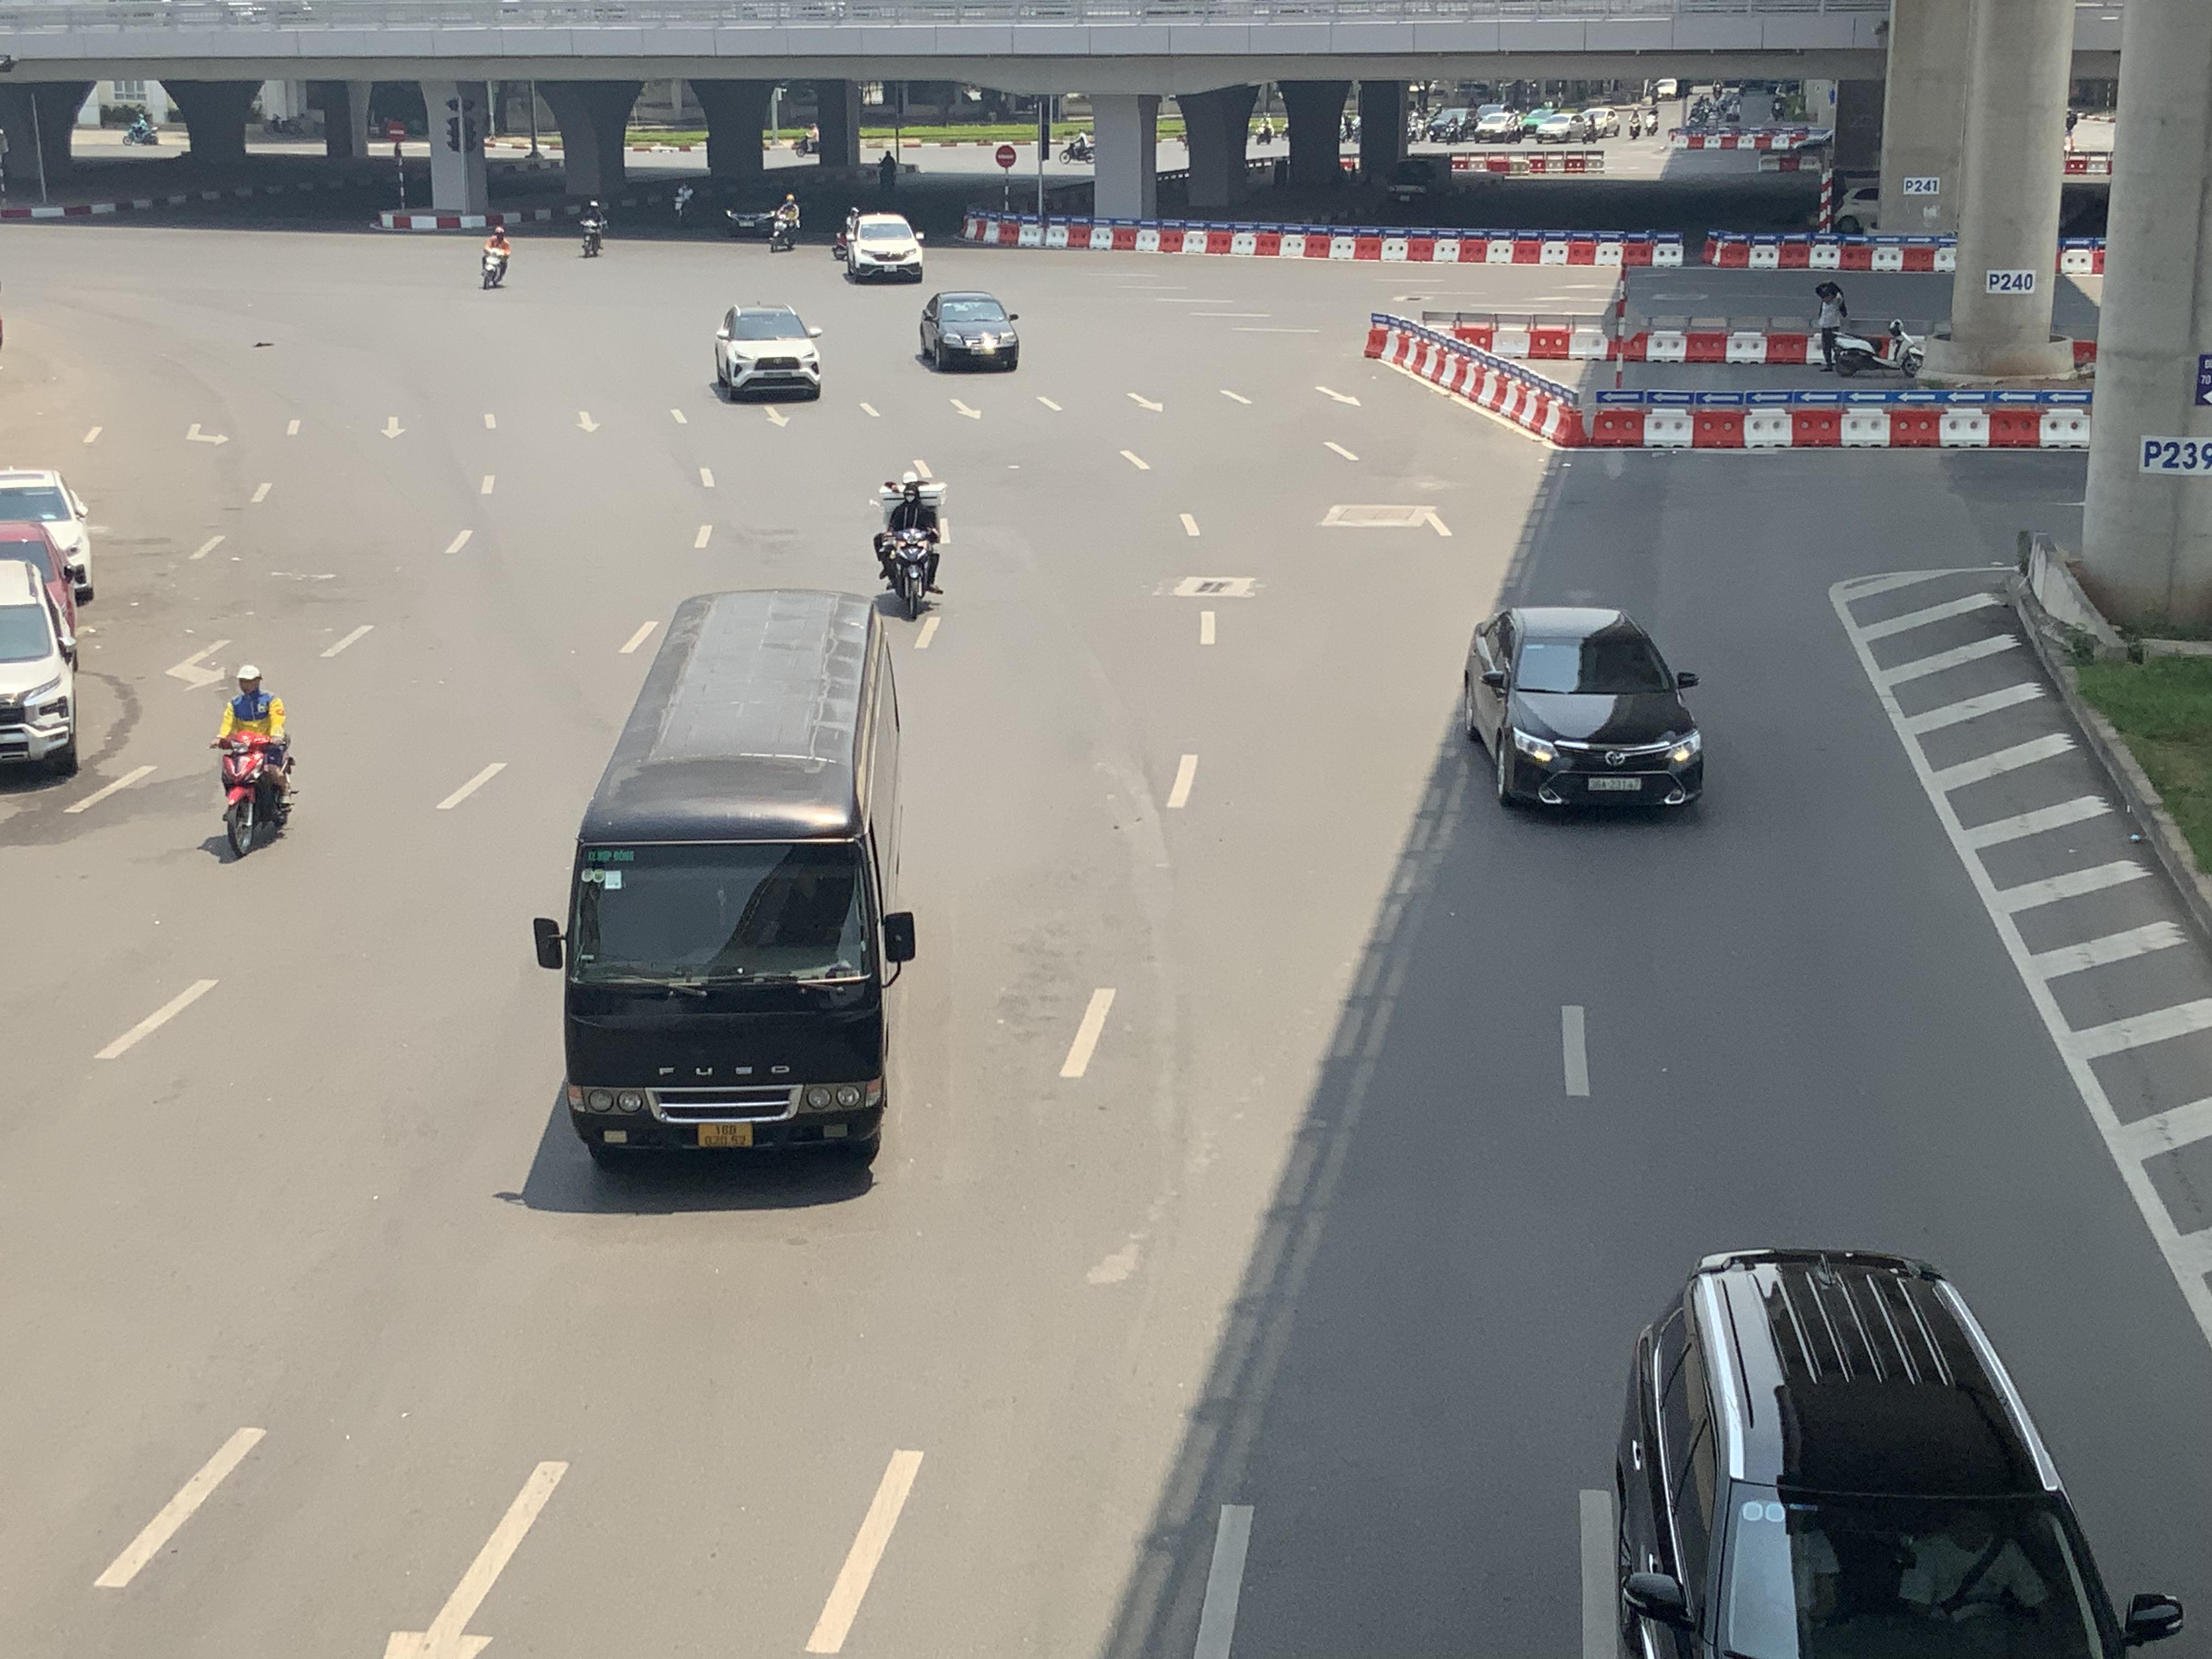BSD: (1588, 775, 1642, 791)
BSV: (698, 1122, 752, 1147)
car: (1581, 1243, 2186, 1659), (1461, 603, 1707, 817), (0, 537, 82, 781), (0, 467, 94, 603), (712, 305, 822, 403), (918, 289, 1021, 373), (838, 213, 925, 282)
motorbike: (214, 666, 296, 861), (876, 467, 944, 620), (479, 216, 510, 289), (766, 190, 799, 253), (577, 195, 606, 258)
truck: (531, 586, 920, 1173)
